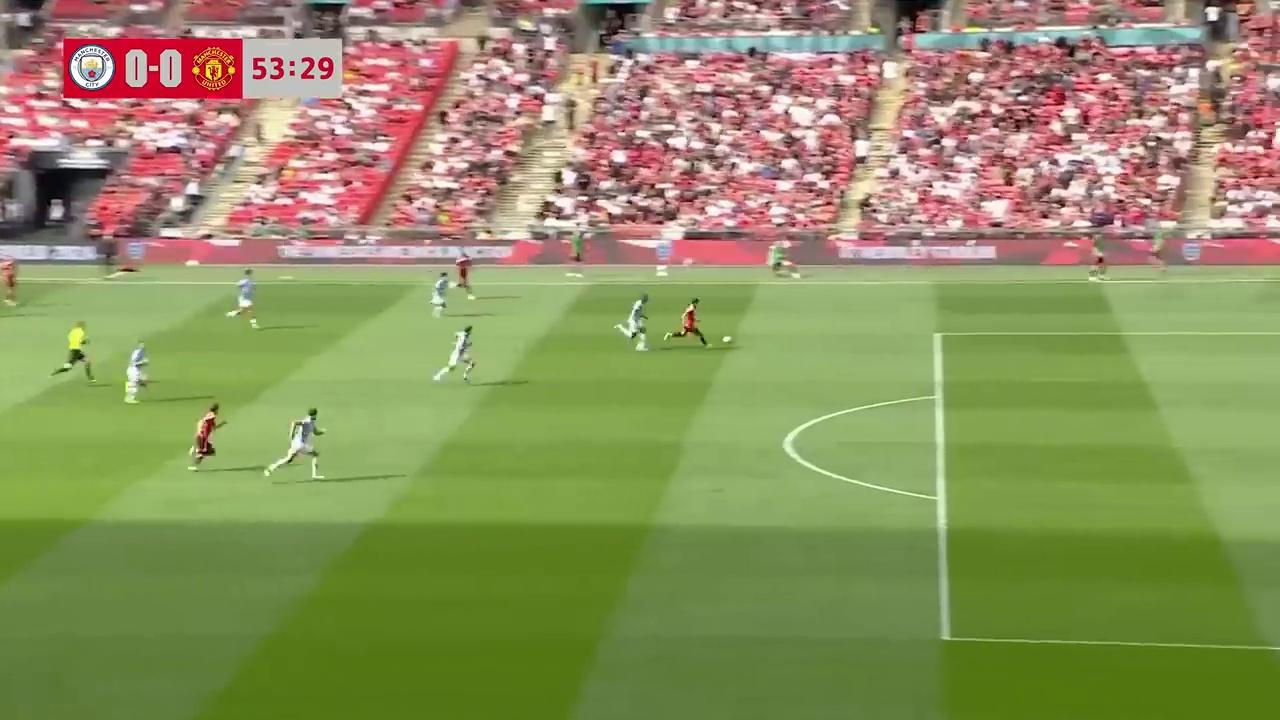ball: (721, 332, 733, 345)
player: (278, 408, 324, 479), (187, 402, 227, 469), (433, 325, 476, 384), (665, 298, 711, 348), (225, 268, 259, 328), (616, 294, 650, 351), (123, 343, 150, 403), (453, 253, 474, 298), (430, 272, 450, 316), (0, 257, 18, 305)
referee: (52, 321, 96, 382)
